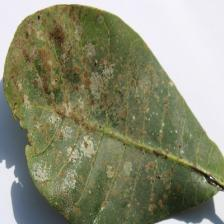red rust: (3, 4, 223, 224)
